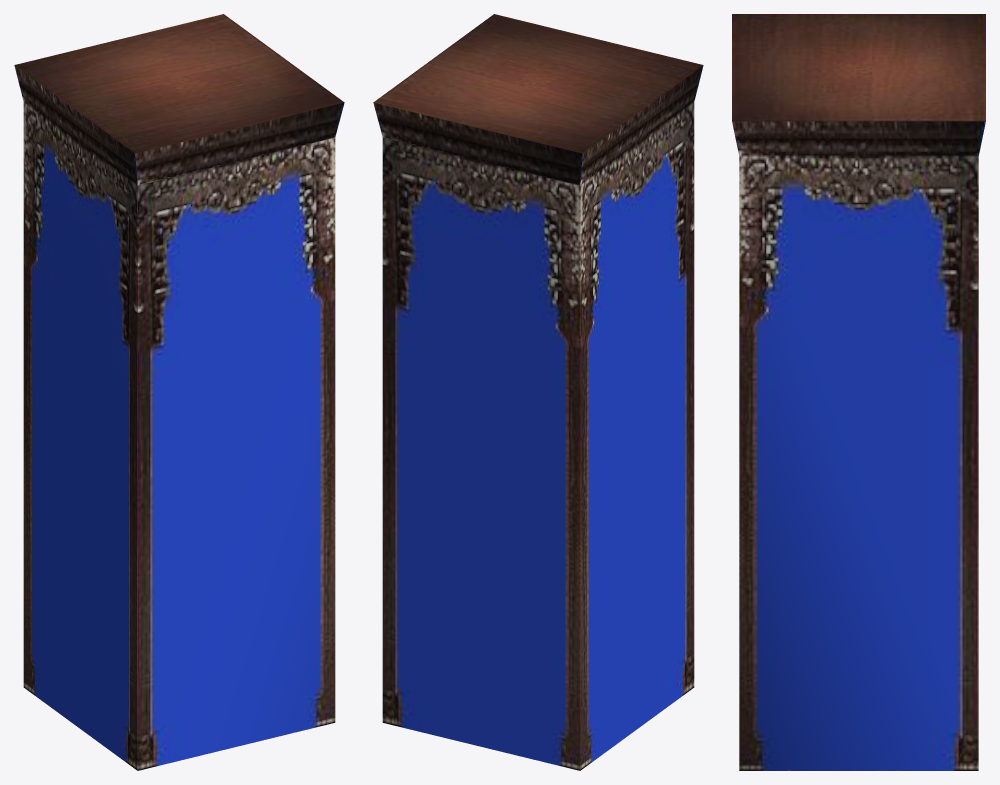
Rendered from sob90.obj.
The picture shows the model from 3 angles, left to right: view 1: azimuth 30°, elevation 25°; view 2: azimuth 150°, elevation 25°; view 3: azimuth 270°, elevation 25°; orthographic projection. The views are drawn at different scales.
Parts seen in each view (by area): view 1: sob90; view 2: sob90; view 3: sob90.
Part boxes in pixels (x1,y1,x2,y2): sob90: (14,14,344,770); sob90: (373,14,703,770); sob90: (732,14,985,770).
Size of the model in its own units: 7.83 by 22.2 by 7.83.
